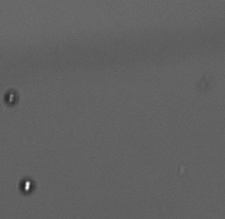Dead Cell: (4, 88, 18, 107)
Living Cell: (19, 178, 35, 194)
